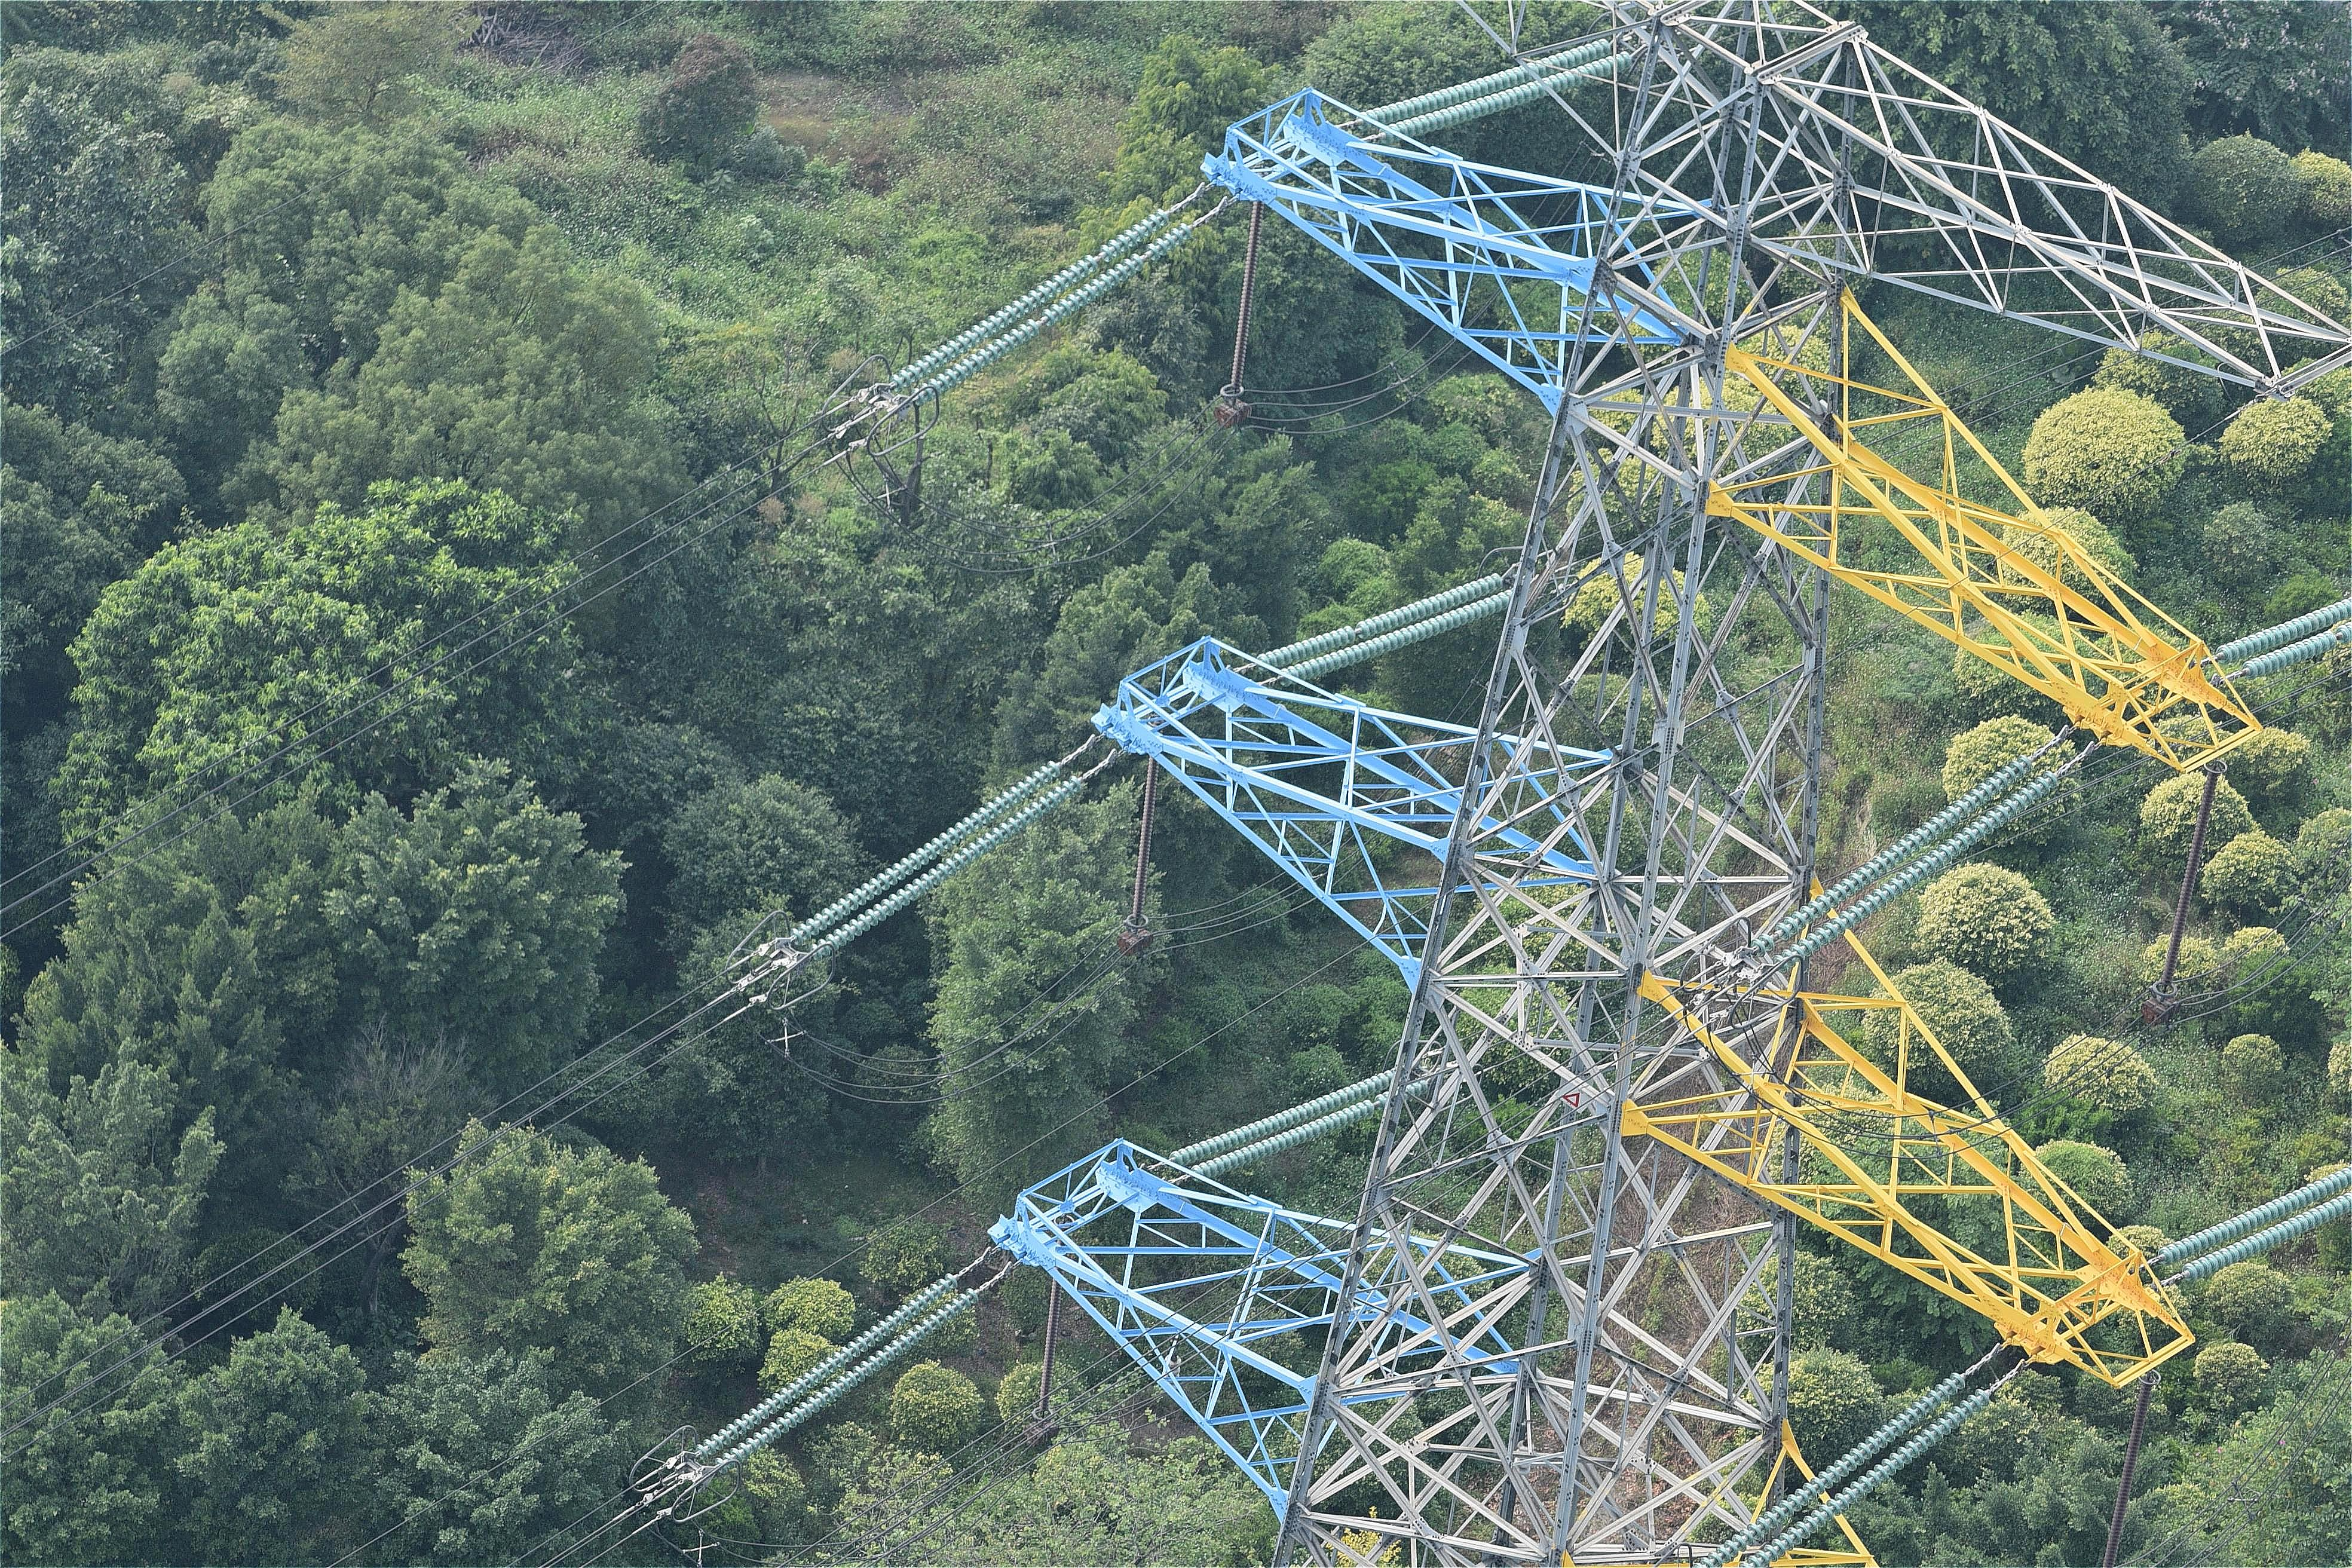insultor3: (1746, 740, 2079, 996), (880, 187, 1244, 408), (793, 733, 1111, 966), (654, 1279, 1006, 1456), (1713, 1372, 2011, 1568), (1197, 567, 1528, 684), (2117, 1130, 2352, 1283), (1347, 24, 1671, 129), (1160, 1076, 1412, 1183), (2203, 590, 2352, 677)
